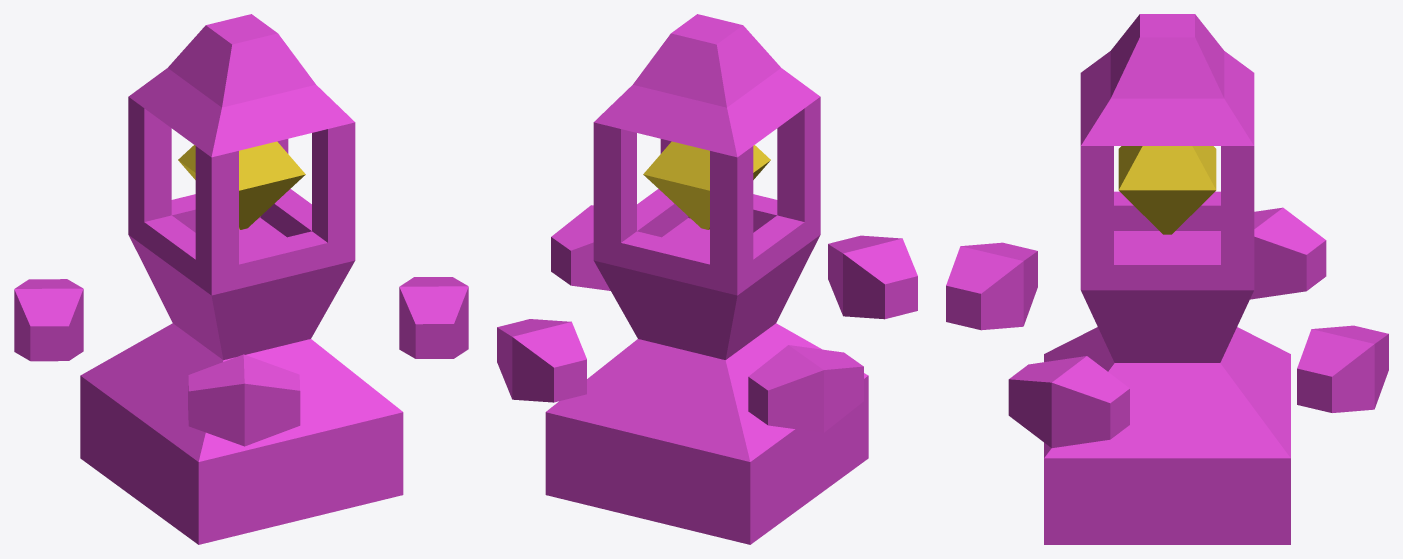
Rendered from lvl_3.fbx.
3 renders of one model, left to right at view 1: azimuth 30°, elevation 25°; view 2: azimuth 150°, elevation 25°; view 3: azimuth 270°, elevation 25°, orthographic. The views are drawn at different scales.
Visible parts, largest first — view 1: Cube.001, Cube.005, Cube; view 2: Cube.001, Cube.005, Cube; view 3: Cube.001, Cube.005, Cube.
Boxes of the visible parts, left/top/right/bottom form: Cube.001: left=80, top=14, right=403, bottom=544; Cube.005: left=14, top=277, right=468, bottom=446; Cube: left=178, top=141, right=305, bottom=229; Cube.001: left=545, top=14, right=868, bottom=544; Cube.005: left=497, top=205, right=917, bottom=432; Cube: left=643, top=141, right=770, bottom=229; Cube.001: left=1044, top=14, right=1290, bottom=544; Cube.005: left=946, top=207, right=1388, bottom=447; Cube: left=1118, top=146, right=1216, bottom=234.
Bounding box in the file's own units: 359 × 359 × 417.
